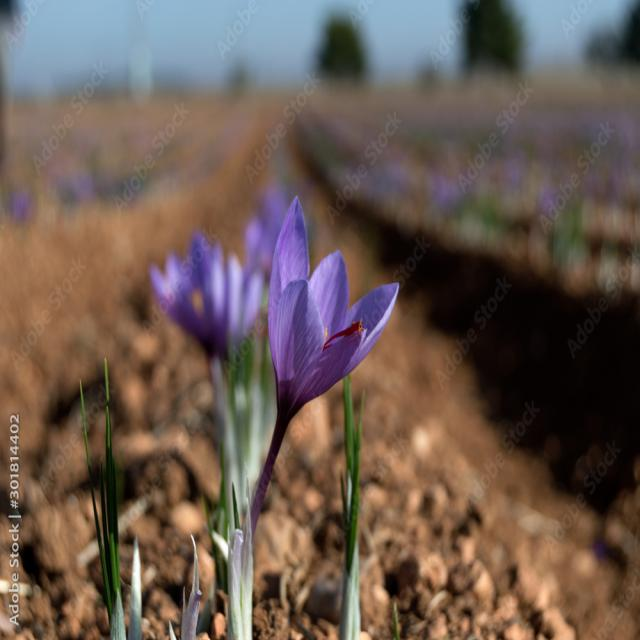saffron open: (250, 197, 399, 534)
